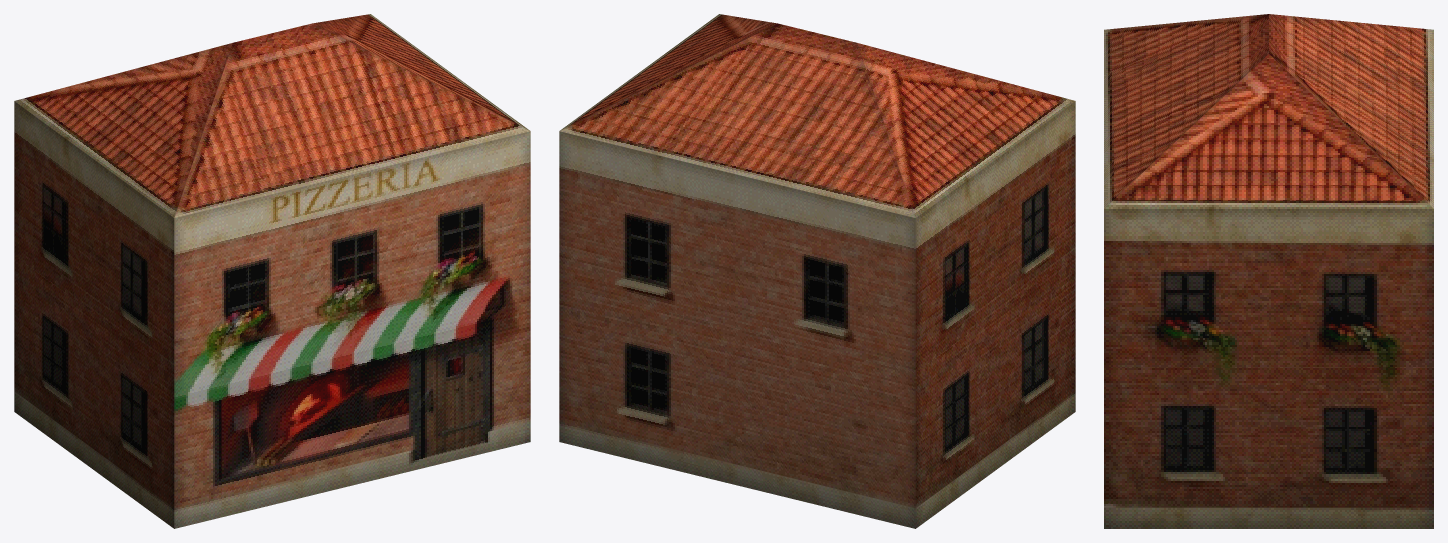
File: pizzeria.glb
The picture shows the model from 3 angles, left to right: view 1: azimuth 30°, elevation 25°; view 2: azimuth 150°, elevation 25°; view 3: azimuth 270°, elevation 25°; orthographic projection. The views are drawn at different scales.
Visible parts, largest first — view 1: Italian Neighbourhood Pizzeria; view 2: Italian Neighbourhood Pizzeria; view 3: Italian Neighbourhood Pizzeria.
Part boxes in pixels (x1=…): Italian Neighbourhood Pizzeria: x1=14, y1=14, x2=530, y2=528; Italian Neighbourhood Pizzeria: x1=559, y1=14, x2=1075, y2=528; Italian Neighbourhood Pizzeria: x1=1104, y1=14, x2=1433, y2=528.
Bounding box in the file's own units: 9 × 9.5 × 7.
Materials: 1 (1 with a texture image).
